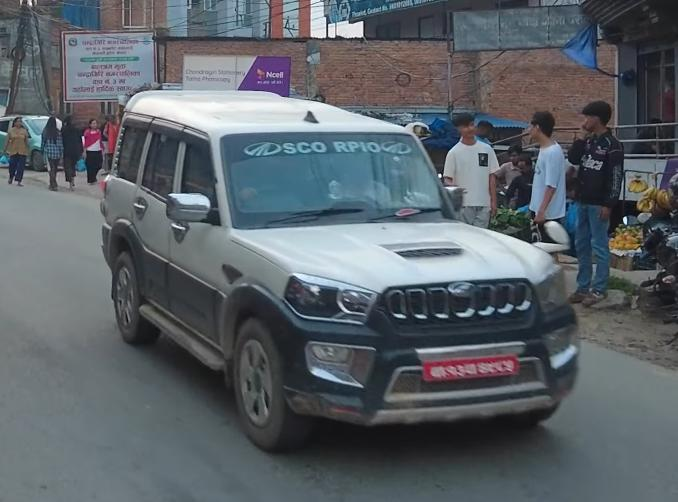SUV: (92, 82, 587, 456)
